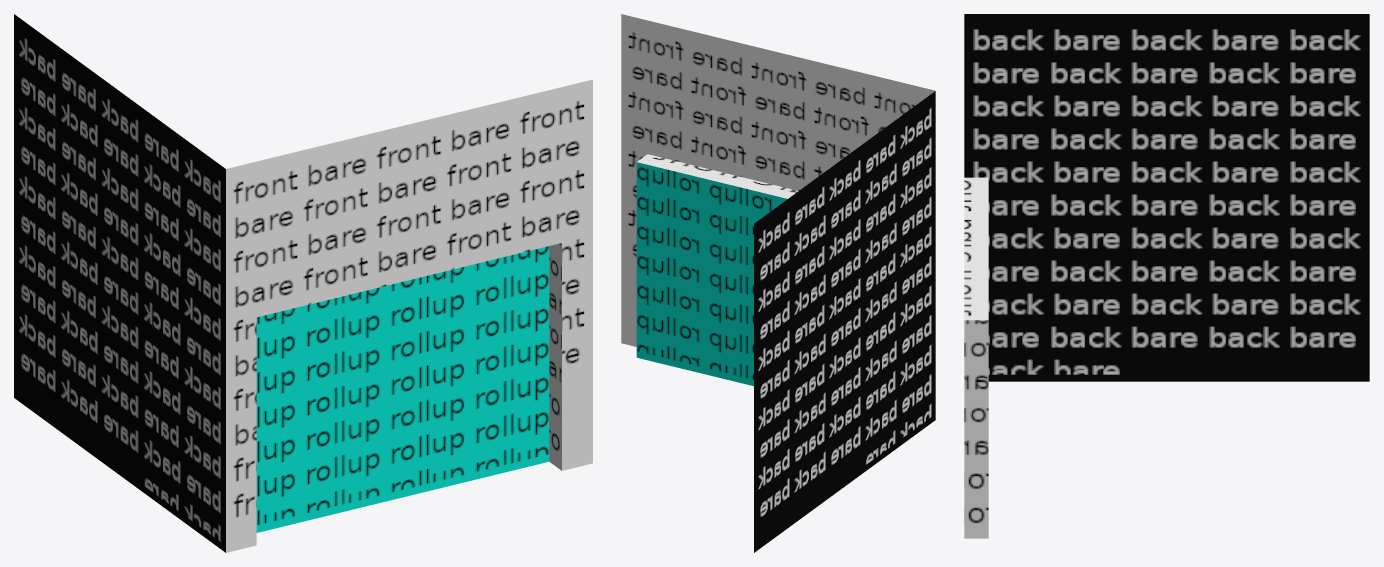
Rendered from left_edge_rollup.gltf.
3 renders of one model, left to right at view 1: azimuth 30°, elevation 25°; view 2: azimuth 150°, elevation 25°; view 3: azimuth 270°, elevation 25°, orthographic. The views are drawn at different scales.
Parts seen in each view (by area): view 1: left_edge_rollup; view 2: left_edge_rollup; view 3: left_edge_rollup.
Boxes of the visible parts, x1,y1,x2,y2 form: left_edge_rollup: [14, 14, 592, 552]; left_edge_rollup: [621, 14, 935, 552]; left_edge_rollup: [964, 14, 1369, 538].
Size of the model in its own units: 5 by 5 by 5.
3 materials, 3 textured.
